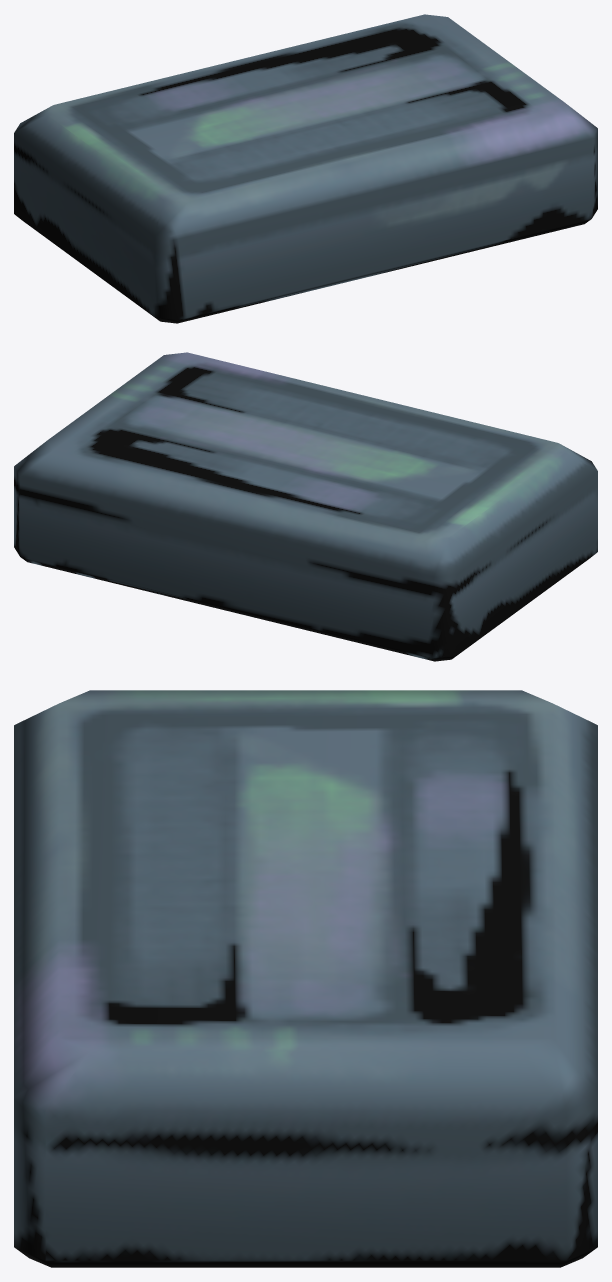
The model's file is SM_Eraser.glb.
3 renders of one model, top to bottom at view 1: azimuth 30°, elevation 25°; view 2: azimuth 150°, elevation 25°; view 3: azimuth 270°, elevation 25°, orthographic. The views are drawn at different scales.
Visible parts, largest first — view 1: SM_Eraser; view 2: SM_Eraser; view 3: SM_Eraser.
Boxes of the visible parts, x1,y1,x2,y2 form: SM_Eraser: (14, 14, 597, 323); SM_Eraser: (14, 352, 597, 661); SM_Eraser: (14, 690, 597, 1267).
Size of the model in its own units: 0.3466 by 0.0825 by 0.2143.
Materials: 1 (1 with a texture image).
